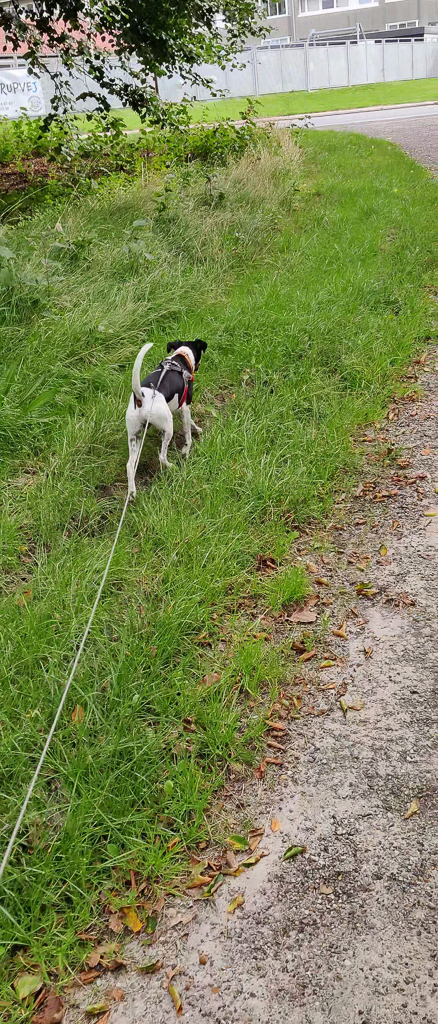Dog: (112, 332, 230, 513)
